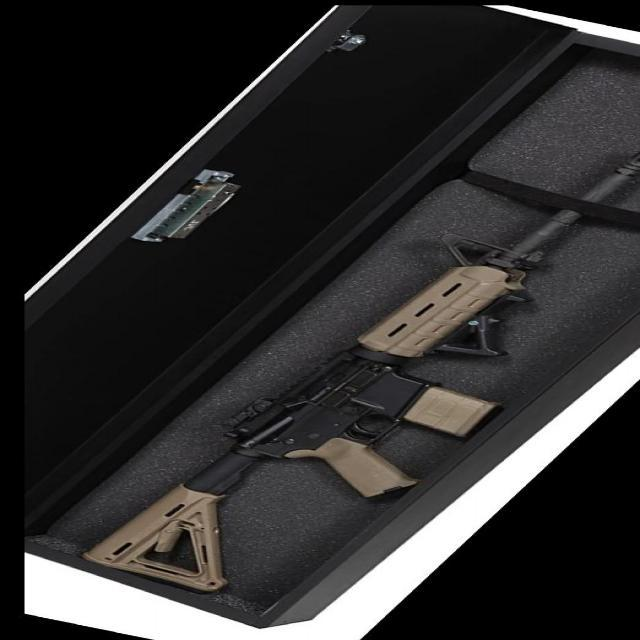weapon: (78, 153, 640, 591)
